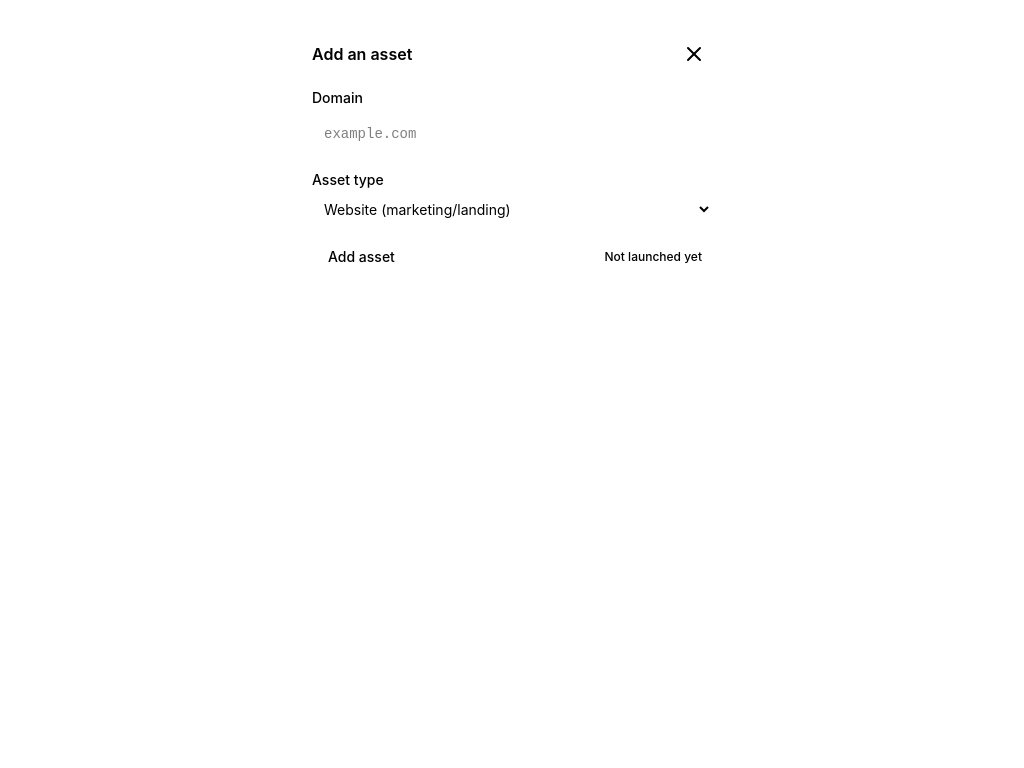
Scenario: Add writes the row, then one changeset — the wizard's writes › sends the store's 409 back to the field as Already added, with the way to it
Type "shop.example.com" into the field labelled "Domain" at (512, 134), box [312, 114, 712, 154]
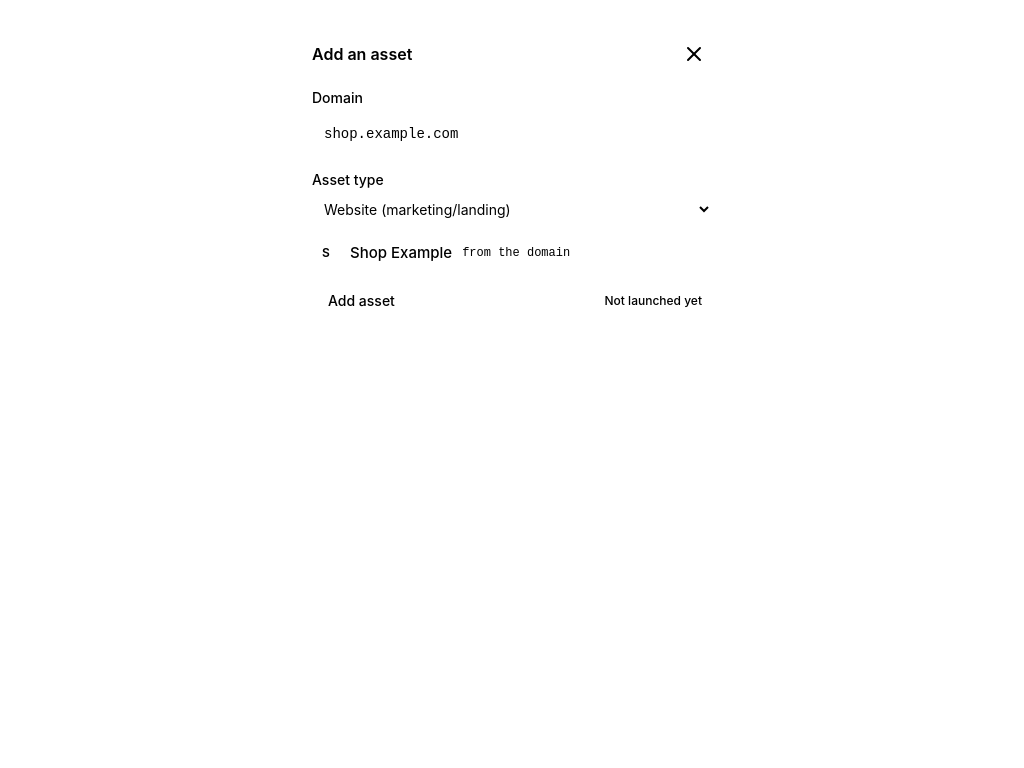
Click the button "Add asset" at (361, 301), box [312, 283, 411, 319]
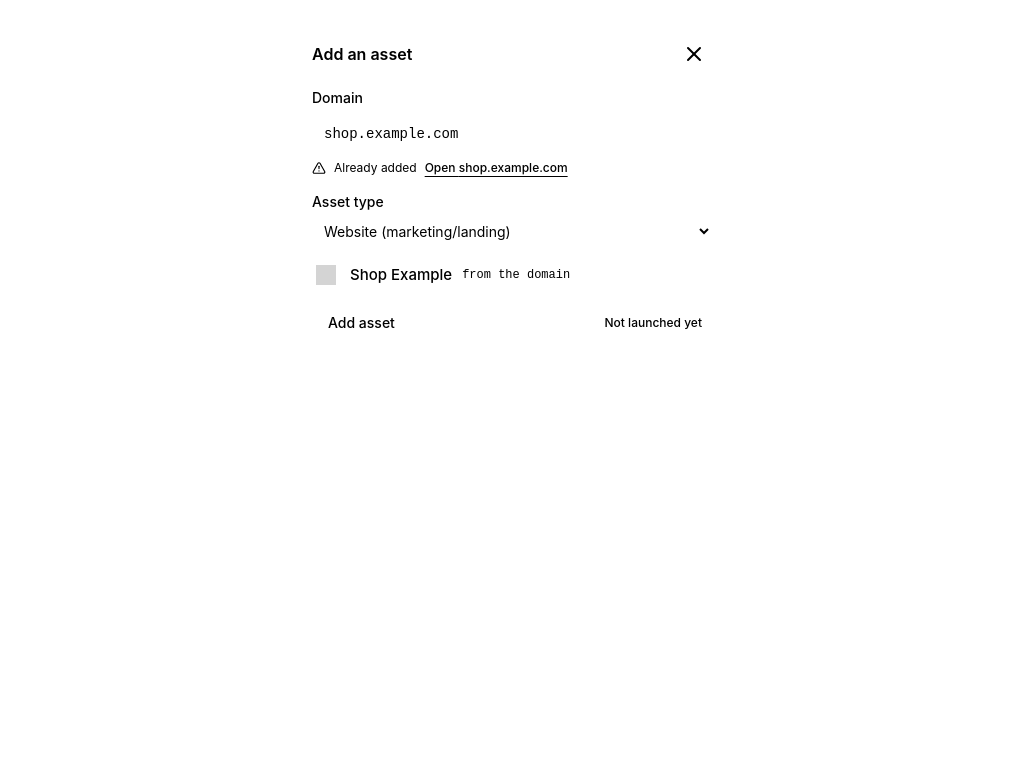
expect the text "Already added" is shown: met, box [334, 160, 417, 175]
expect the link "Open shop.example.com" is shown: met, box [425, 160, 568, 176]
